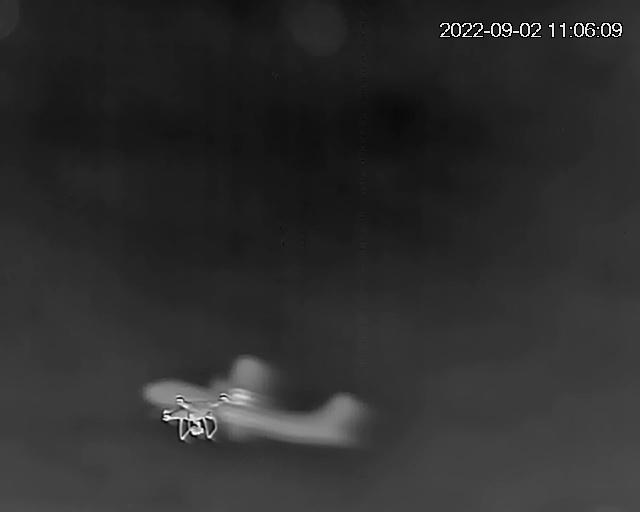DJI-Phantom: (162, 395, 233, 446)
